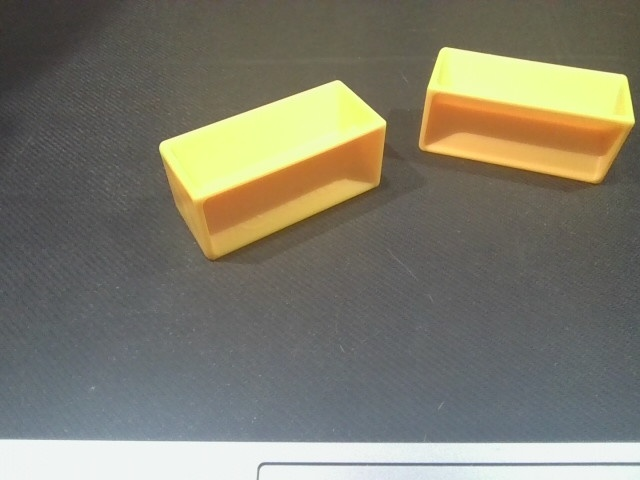YellowSample: (154, 75, 391, 263), (414, 42, 638, 192)
